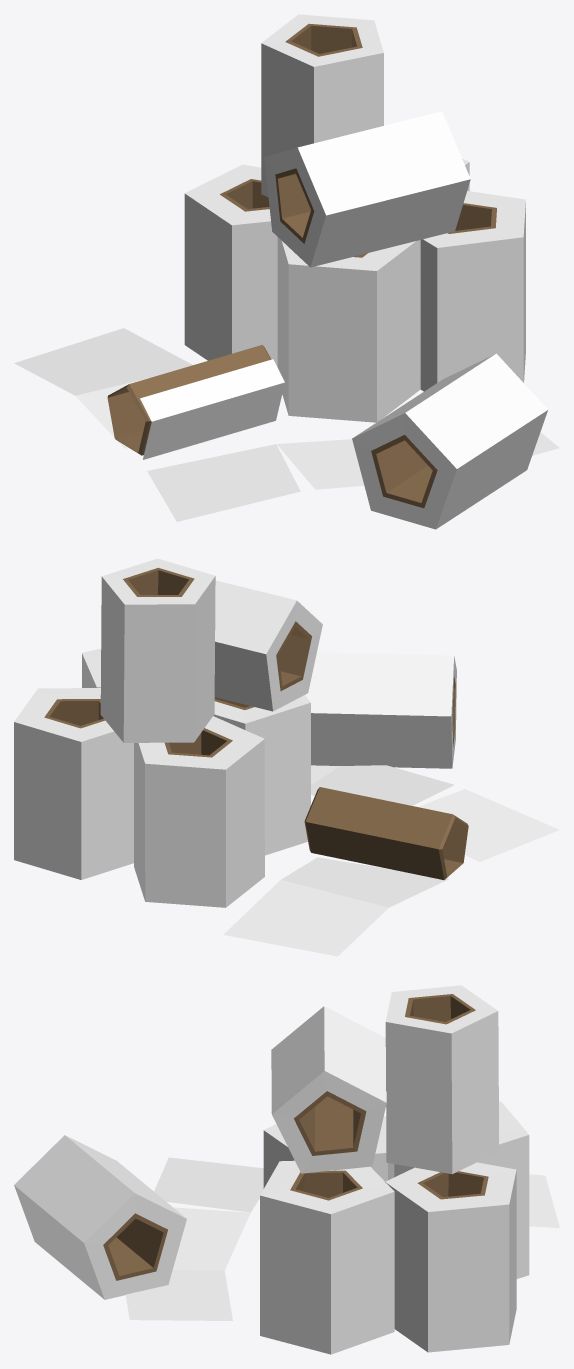
The model's file is ToiletPaperPile.glb.
3 views of the same model, one above another, from view 1: azimuth 30°, elevation 25°; view 2: azimuth 150°, elevation 25°; view 3: azimuth 270°, elevation 25° (orthographic). The views are drawn at different scales.
Visible parts, largest first — view 1: toiletRollPile; view 2: toiletRollPile; view 3: toiletRollPile.
Part boxes in pixels (left/top/right/bottom): toiletRollPile: left=14, top=14, right=559, bottom=529; toiletRollPile: left=14, top=558, right=559, bottom=956; toiletRollPile: left=14, top=985, right=559, bottom=1354.
Bounding box in the file's own units: 0.6454 × 0.4301 × 0.7542.
Materials: 1 (1 with a texture image).
